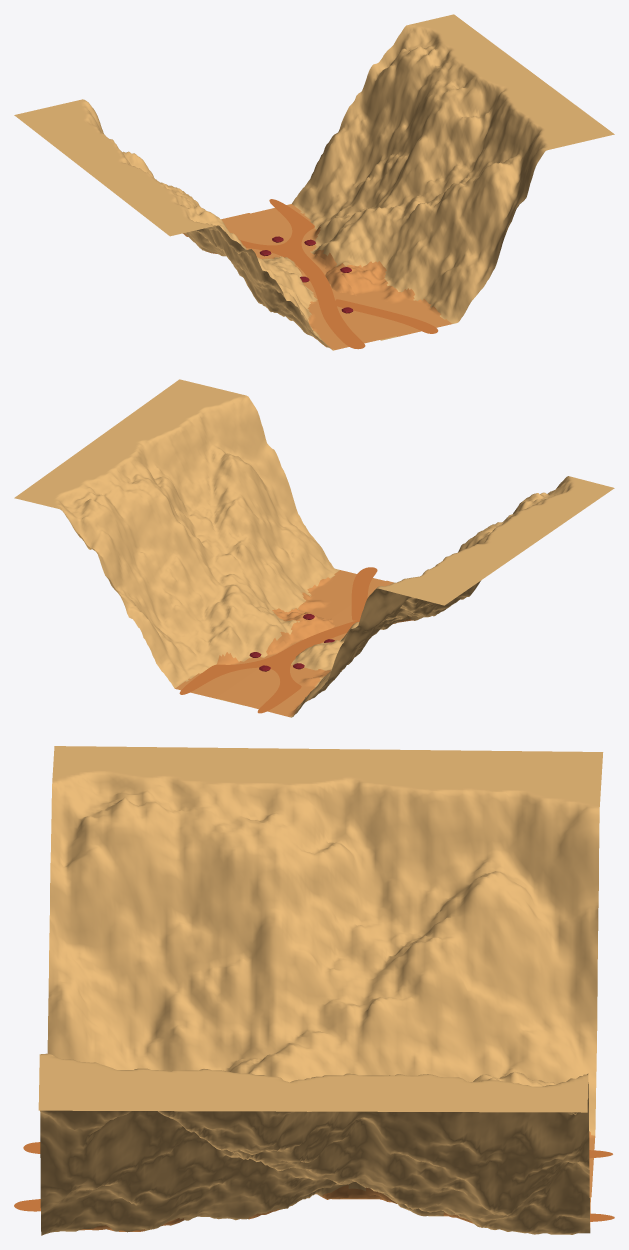
The model's file is map4.fbx.
3 renders of one model, top to bottom at view 1: azimuth 30°, elevation 25°; view 2: azimuth 150°, elevation 25°; view 3: azimuth 270°, elevation 25°, orthographic. The views are drawn at different scales.
Visible parts, largest first — view 1: dağ, zemin, yol; view 2: dağ, zemin, yol; view 3: dağ, zemin, yol.
Part boxes in pixels (x1,y1,x2,y2): dağ: (14,14,614,350); zemin: (183,204,451,349); yol: (239,199,438,349); dağ: (14,379,614,717); zemin: (175,570,413,717); yol: (179,567,377,713); dağ: (38,746,603,1235); zemin: (80,1132,595,1232); yol: (14,1142,614,1221).
Bounding box in the file's own units: 6777 × 2236 × 4741.
